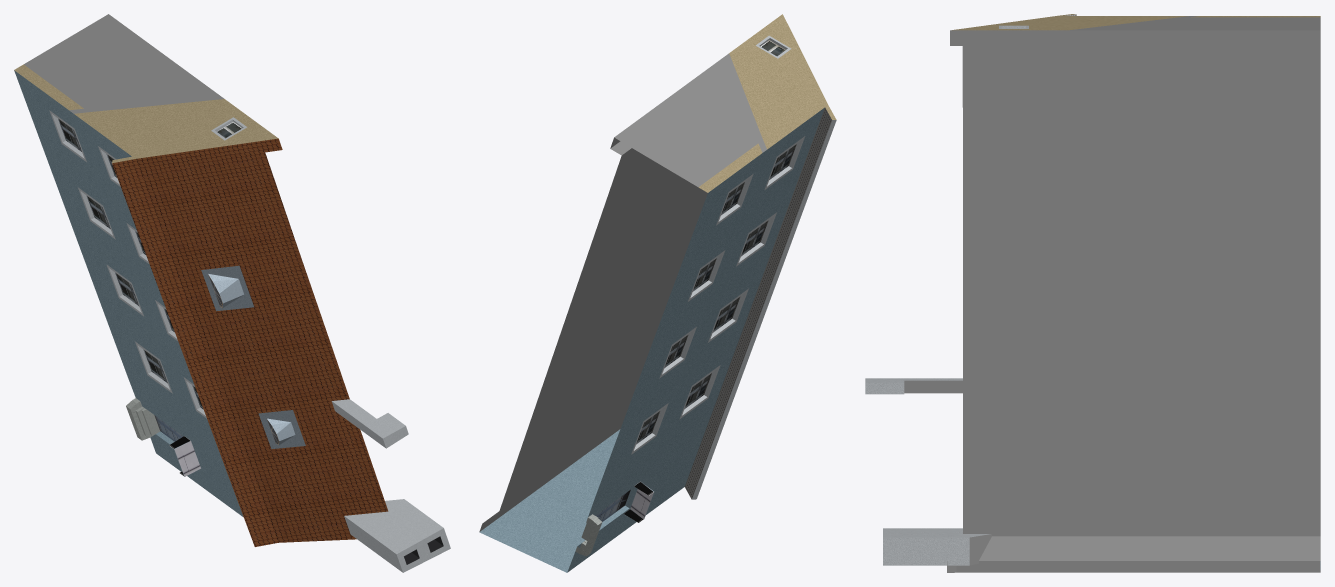
The model's file is Myyrivahe_62.obj.
3 views of the same model, side by side, from view 1: azimuth 30°, elevation 25°; view 2: azimuth 150°, elevation 25°; view 3: azimuth 270°, elevation 25° (orthographic). The views are drawn at different scales.
Visible parts, largest first — view 1: Myyrivahe_62, xxx; view 2: Myyrivahe_62, xxx; view 3: xxx, Myyrivahe_62.
Part boxes in pixels (x1,y1,x2,y2): Myyrivahe_62: [14, 64, 450, 572]; xxx: [24, 14, 224, 113]; Myyrivahe_62: [479, 14, 836, 572]; xxx: [479, 53, 766, 531]; xxx: [904, 16, 1320, 572]; Myyrivahe_62: [865, 14, 1320, 572].
Size of the model in its own units: 9.02 by 15.5 by 12.86.
